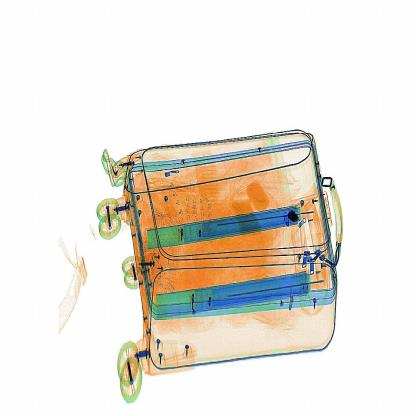knife: (278, 200, 306, 234)
